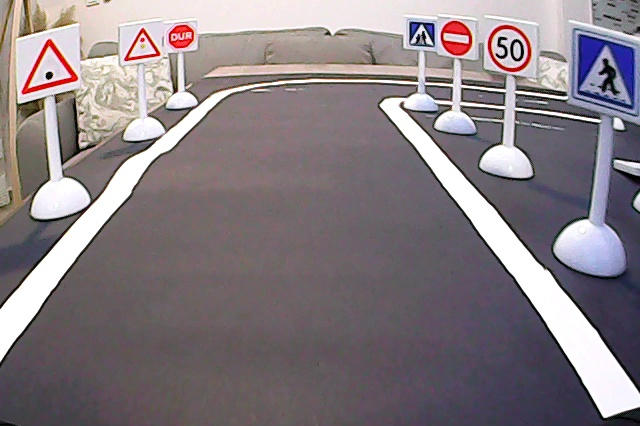do not enter: (438, 17, 477, 62)
green light: (12, 32, 84, 100)
pedestrian crossing: (567, 24, 638, 118)
red light: (118, 24, 161, 64)
school crossing: (405, 17, 436, 51)
speed limit 50: (484, 18, 538, 77)
stop sign: (165, 20, 200, 53)
